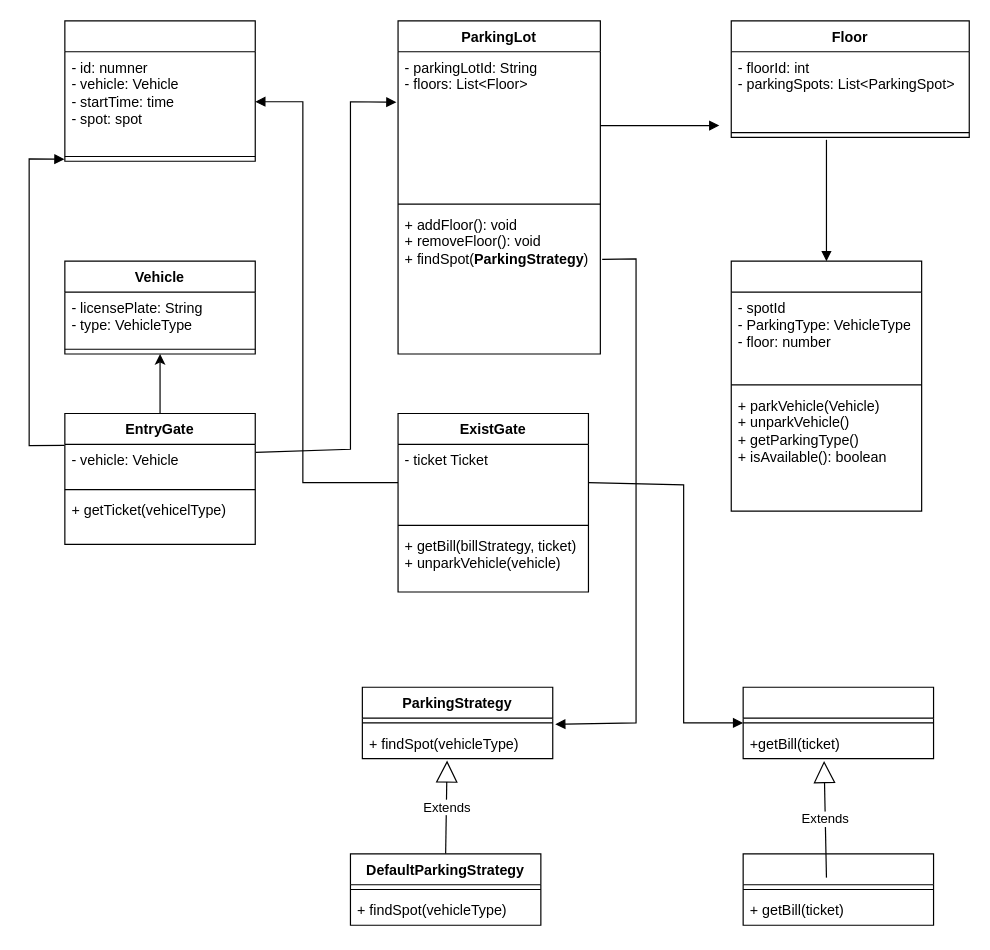
Some shapes in this 990 by 950 pixel diagram are drawn without their labels. Each missing label, with the box of its shape:
BillStrategy: (742, 686, 934, 759)
DefaultBillingStrategy: (742, 853, 934, 925)
ParkingSpot: (730, 260, 922, 511)
Ticket: (64, 20, 255, 161)
